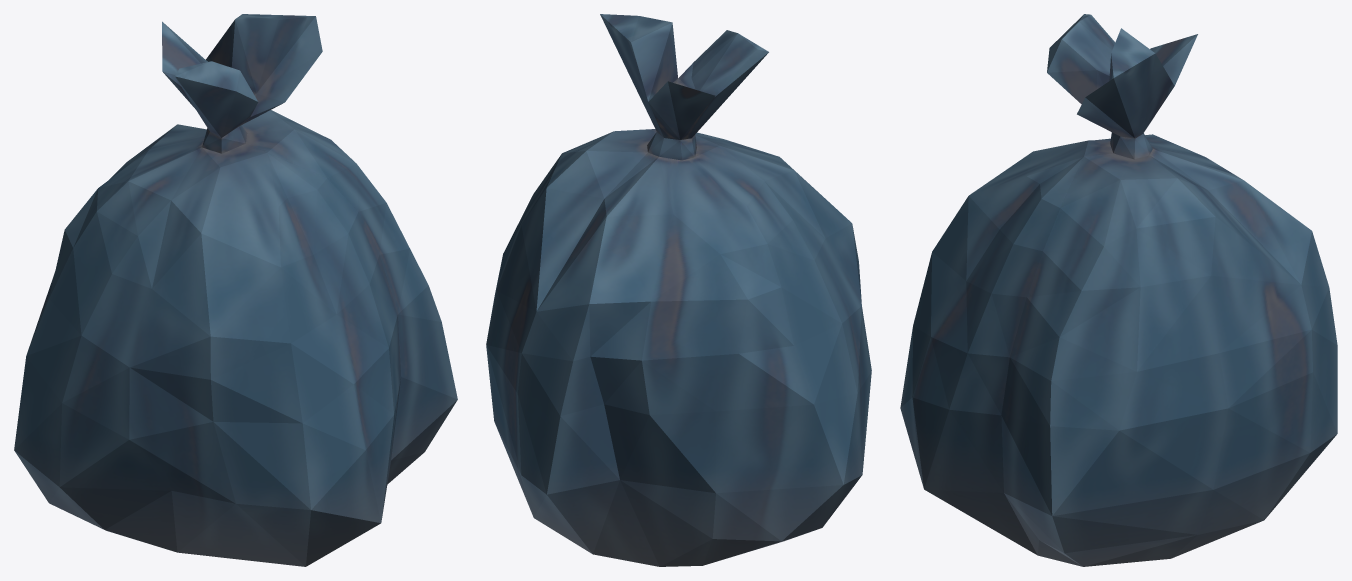
File: P_GarbageBag_001_S1_M01.obj
3 views of the same model, side by side, from view 1: azimuth 30°, elevation 25°; view 2: azimuth 150°, elevation 25°; view 3: azimuth 270°, elevation 25° (orthographic).
Bounding box in the file's own units: 0.5628 × 0.6978 × 0.5588.
1 material, 1 textured.
